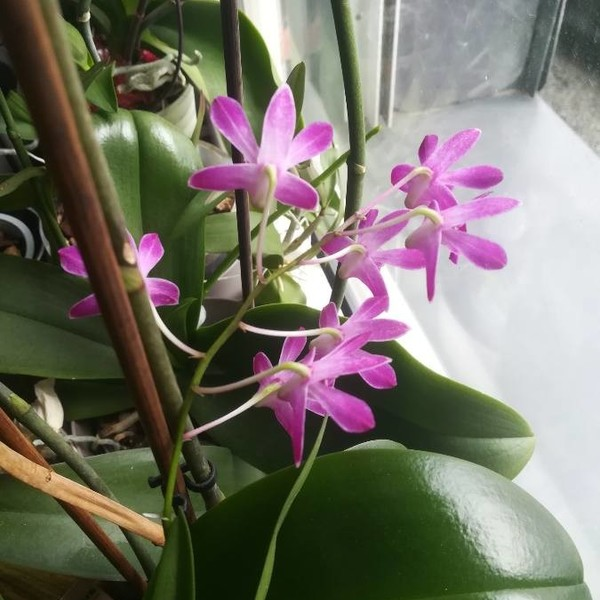obstacle: (74, 23, 523, 587)
